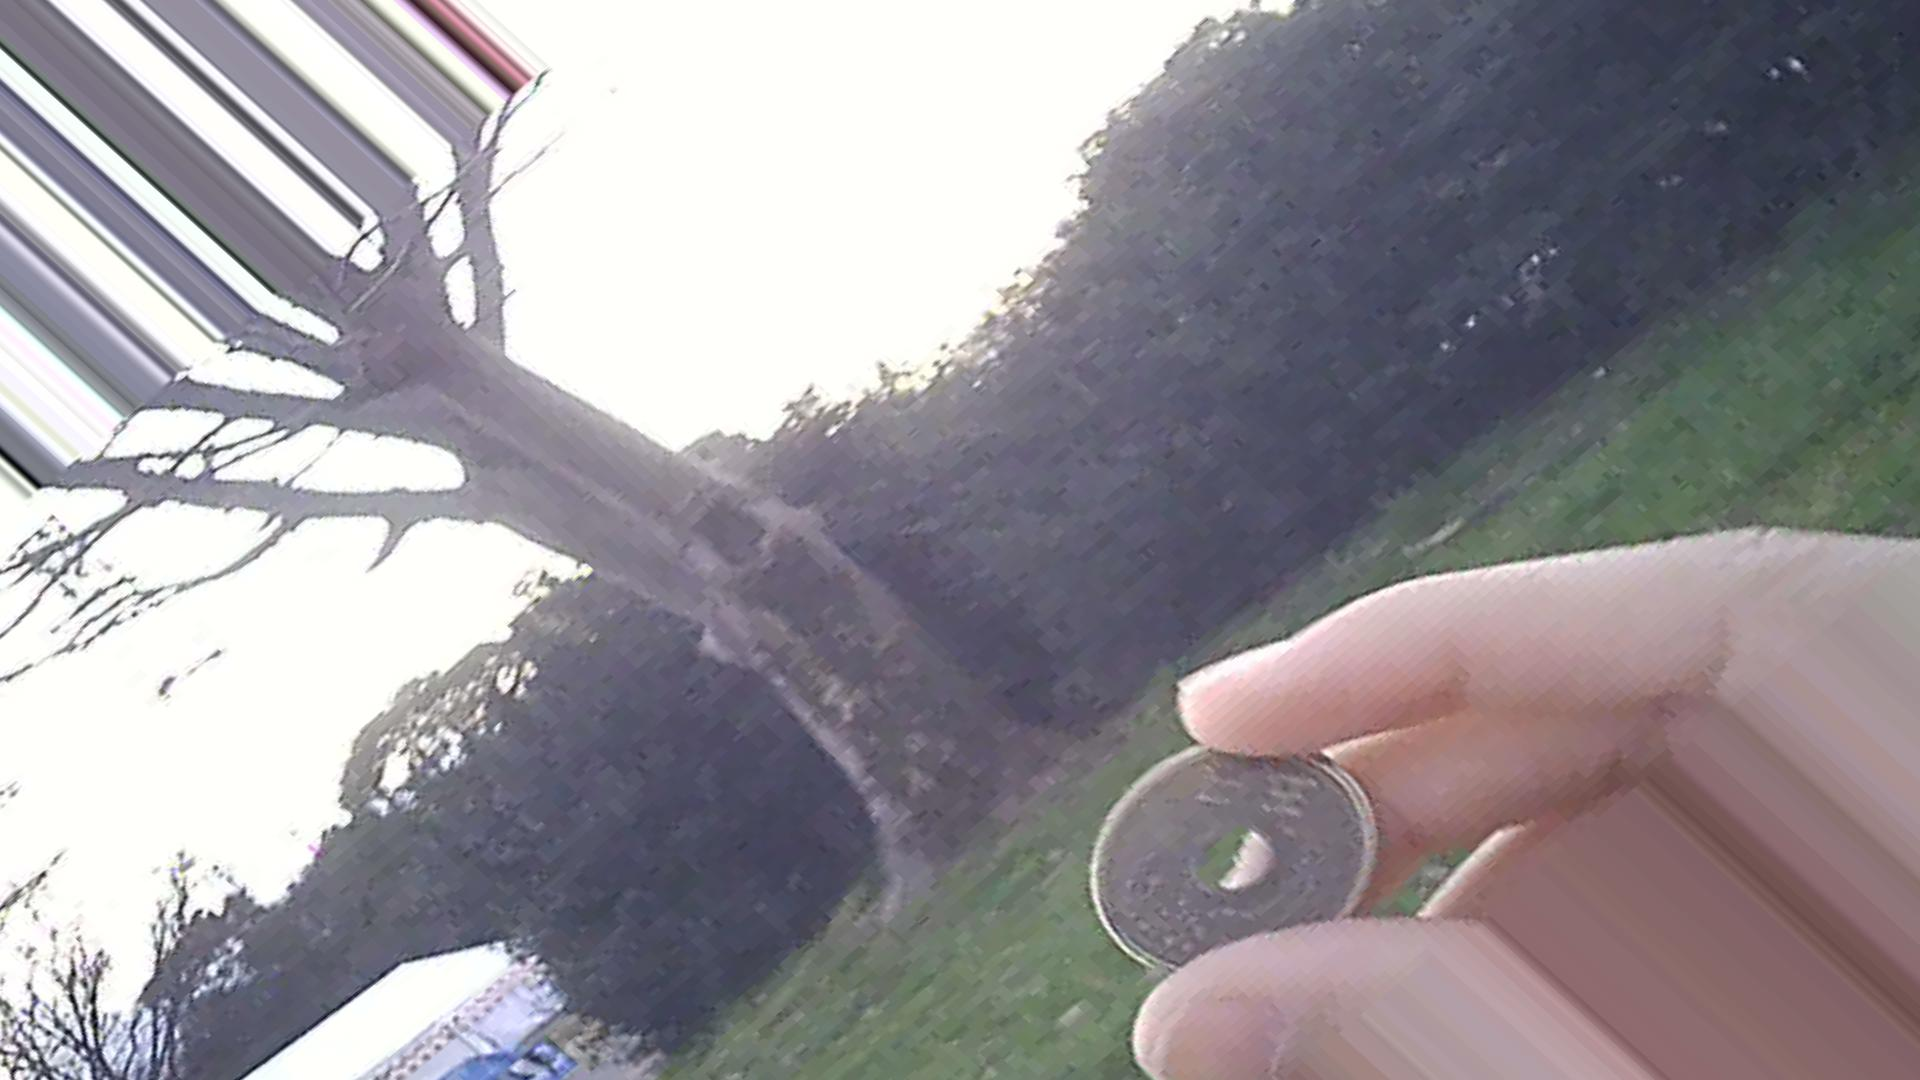5 Yen: (1088, 728, 1378, 988)
